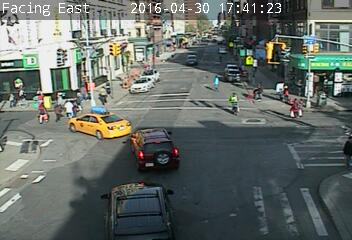neg: (60, 135, 88, 173), (161, 130, 186, 163), (224, 88, 248, 120), (205, 129, 229, 161), (94, 117, 118, 149), (29, 149, 51, 178), (125, 81, 144, 107), (320, 70, 339, 95), (52, 32, 71, 56), (250, 154, 268, 178), (99, 29, 117, 52), (38, 190, 55, 213), (225, 44, 242, 66), (6, 144, 22, 165), (311, 32, 326, 51), (282, 156, 296, 175), (139, 32, 153, 51), (207, 13, 221, 32), (272, 23, 286, 42), (146, 66, 159, 84), (12, 46, 25, 63), (154, 45, 167, 62), (247, 19, 259, 34), (254, 58, 265, 73), (127, 165, 137, 178), (176, 93, 186, 106), (200, 45, 209, 58), (176, 27, 184, 38), (274, 58, 282, 69), (187, 56, 193, 64)
pos: (245, 84, 269, 115), (30, 95, 54, 126), (334, 132, 351, 170), (287, 96, 309, 125), (91, 82, 111, 109), (1, 88, 19, 113), (274, 80, 291, 103), (68, 92, 85, 115), (209, 74, 225, 95), (59, 98, 75, 119), (78, 81, 92, 100), (15, 84, 28, 102)
